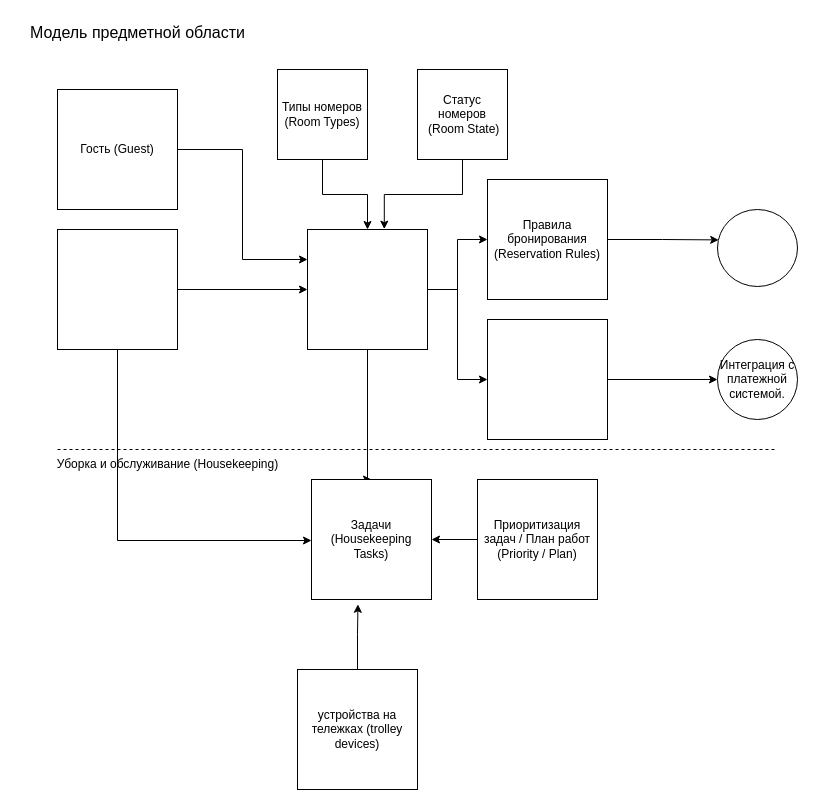
Some shapes in this 815 by 807 pixel diagram are drawn without their labels. Each missing label, with the centre of its shape:
Интеграция с системой бронирования: point (757, 247)
Номер (Room): point (367, 289)
Платежная информация (Payment Information): point (547, 379)
Сотрудник отеля (Hotel Staff): point (117, 289)
